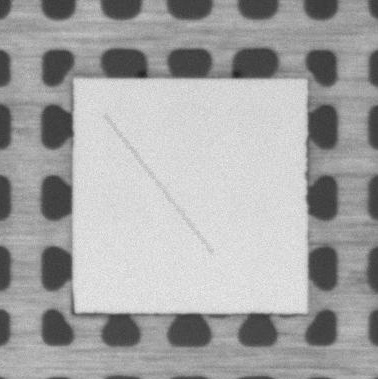DIE_CRACK: (105, 115, 211, 253)
